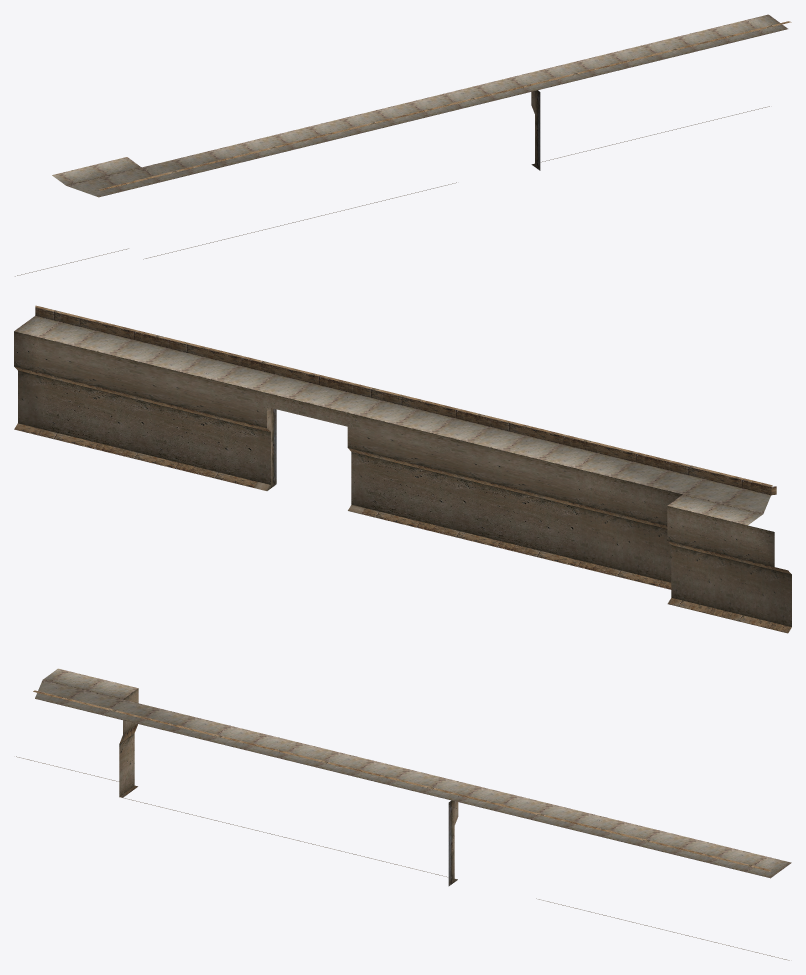
Rendered from M11_CompWallInner_C.glb.
3 renders of one model, top to bottom at view 1: azimuth 30°, elevation 25°; view 2: azimuth 150°, elevation 25°; view 3: azimuth 330°, elevation 25°, orthographic. The views are drawn at different scales.
Parts seen in each view (by area): view 1: M11_COMPWALLINNER_C; view 2: M11_COMPWALLINNER_C; view 3: M11_COMPWALLINNER_C.
Boxes of the visible parts, <box> form: M11_COMPWALLINNER_C: <box>15,14,791,276</box>; M11_COMPWALLINNER_C: <box>14,305,791,633</box>; M11_COMPWALLINNER_C: <box>16,668,791,960</box>.
Bounding box in the file's own units: 59 × 7.6 × 5.
4 materials, 4 textured.
